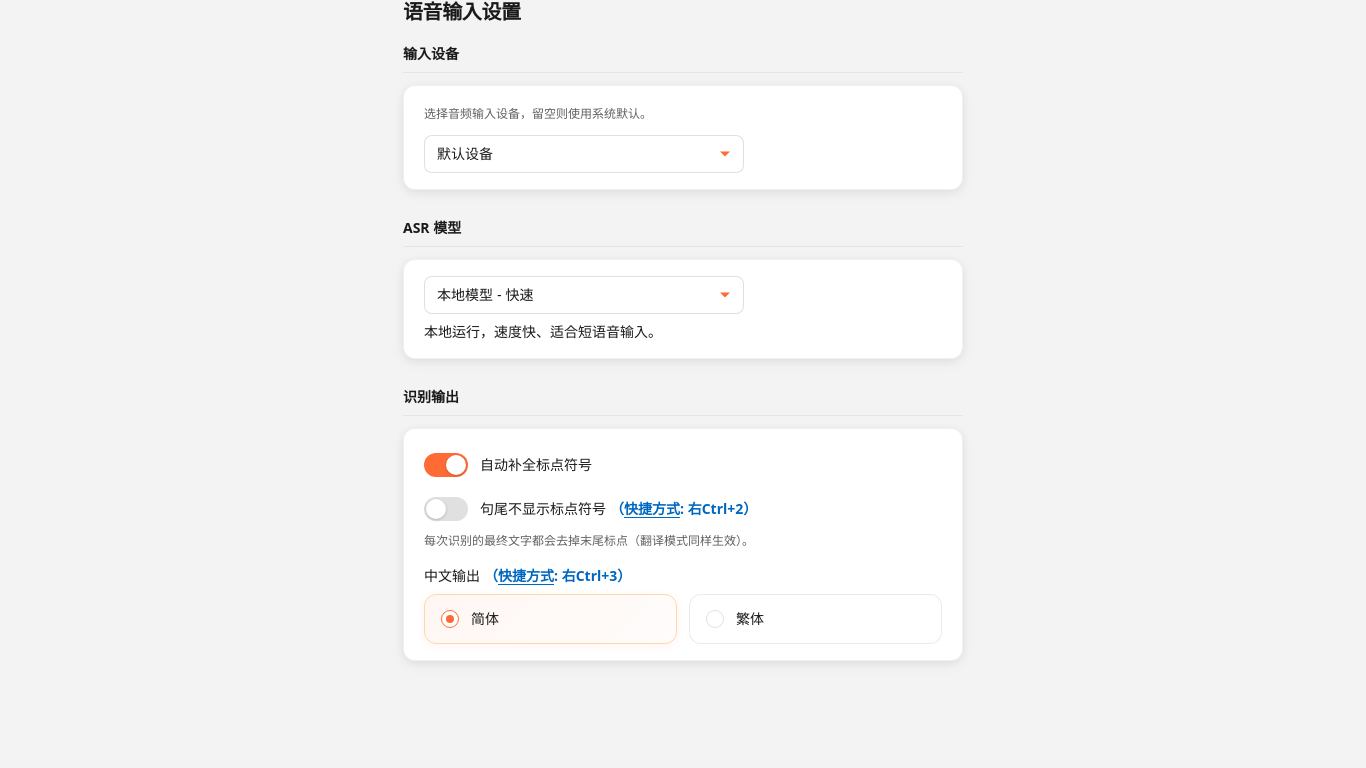
it: VoicePage - 中文输出快捷方式（SC-SCRIPT-489） › SC-UI-055: 「中文输出」后显示快捷方式 右Ctrl+3；点链接只开对话框，不改简繁
expect the text "中文输出" is shown: met, box [424, 566, 480, 585]
expect the text "中文输出" shows "右Ctrl+3": met, box [562, 566, 617, 585]
Click the button "快捷方式" next to "右Ctrl+3". click: [526, 576]
box: [498, 566, 554, 586]
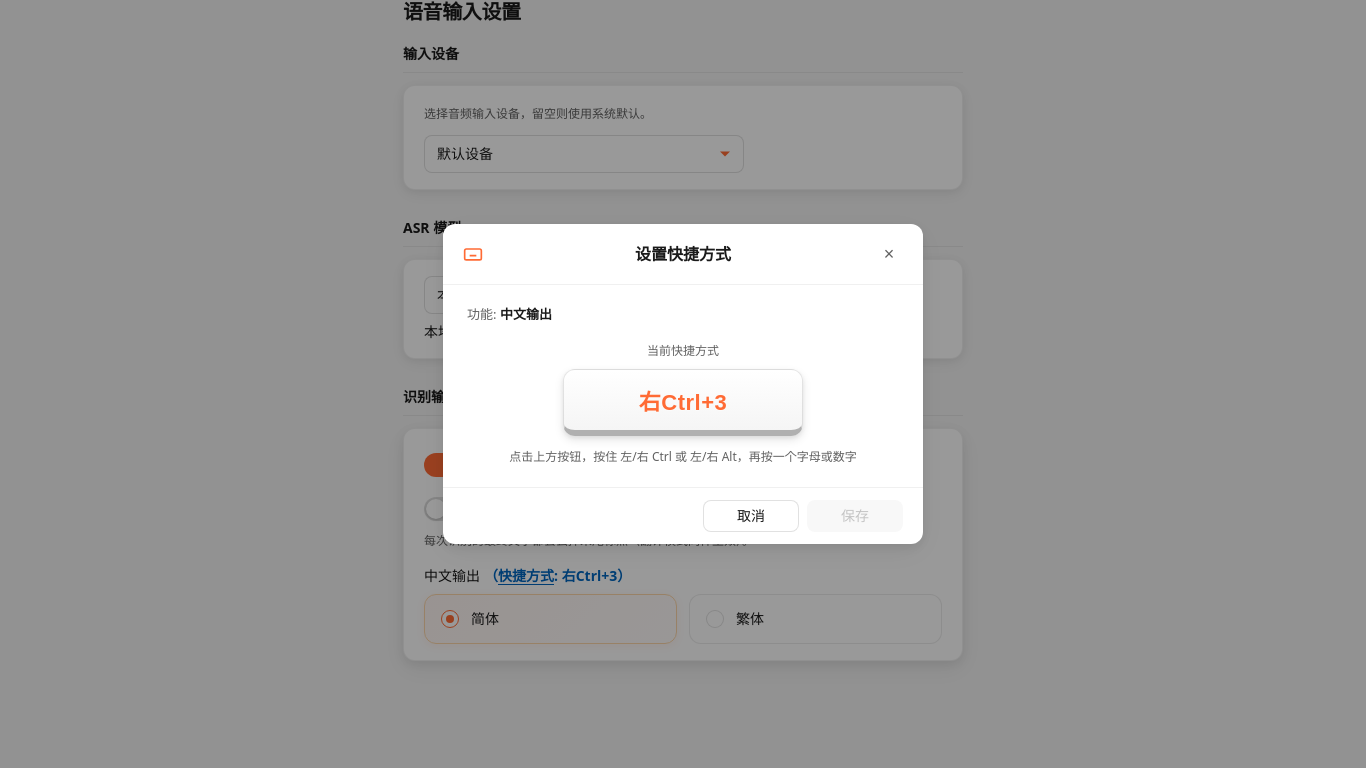
expect the radio button labelled "简体" is checked: met, box [424, 594, 677, 644]
expect the dialog is shown: met, box [443, 224, 923, 544]
